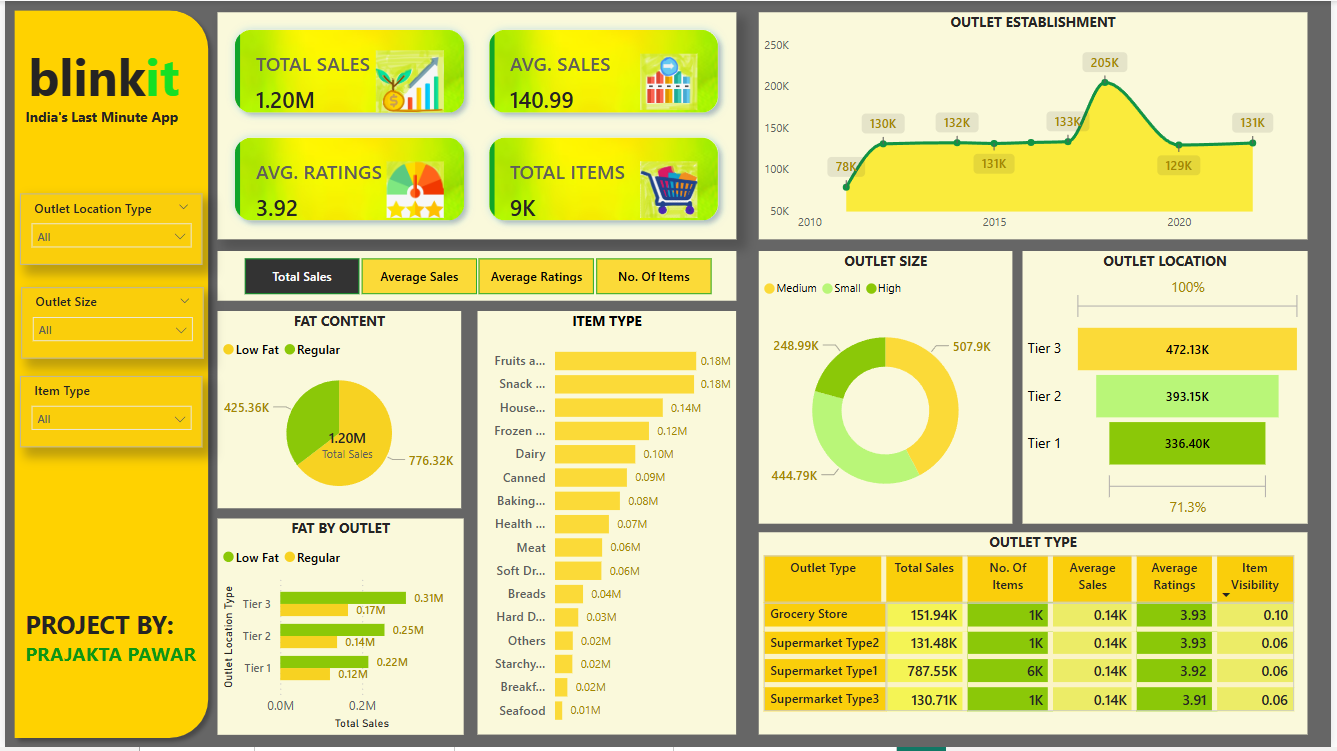

The dashboard page shown, as its layout file describes it:
{"tool":"powerbi","page":{"name":"Blinkit Grocery Overview","canvas":[1280,720],"ordinal":2},"visuals":[{"type":"shape","box":[0,0,205.1,720.2],"z":0},{"type":"textbox","box":[263,530.8,53.1,8.4],"z":1000},{"type":"textbox","box":[0,35,190.6,84.5],"z":2000},{"type":"textbox","box":[14.5,97.7,177.3,43.4],"z":3000},{"type":"cardVisual","fields":{"Data":["Cleaned Grocery Data.Total Sales","Cleaned Grocery Data.Average Sales","Cleaned Grocery Data.Average Ratings","Cleaned Grocery Data.No. Of Items"]},"box":[205.1,10.9,500.7,219.6],"z":4000},{"type":"pieChart","title":"FAT CONTENT","fields":{"Y":["Cleaned Grocery Data.Total Sales"],"Category":["Cleaned Grocery Data.Item Fat Content"]},"box":[205.1,299.2,235.3,190.6],"z":6000},{"type":"slicer","fields":{"Values":["Matrics.Matrics"]},"box":[205.1,241.3,500.7,48.3],"z":7000},{"type":"cardVisual","fields":{"Data":["Cleaned Grocery Data.Total Sales"]},"box":[285.9,395.7,89.3,60.3],"z":8000},{"type":"clusteredBarChart","title":"FAT BY OUTLET","fields":{"Y":["Cleaned Grocery Data.Total Sales"],"Category":["Cleaned Grocery Data.Outlet Location Type"],"Series":["Cleaned Grocery Data.Item Fat Content"]},"box":[205.1,499.5,237.7,208.7],"z":9000},{"type":"barChart","title":"ITEM TYPE","fields":{"Y":["Cleaned Grocery Data.Total Sales"],"Category":["Cleaned Grocery Data.Item Type"]},"box":[456,299.2,249.7,409],"z":12000},{"type":"lineChart","title":"OUTLET ESTABLISHMENT","fields":{"Category":["Cleaned Grocery Data.Outlet Establishment Year"],"Y":["Cleaned Grocery Data.Total Sales"]},"box":[727.5,10.9,529.6,219.6],"z":14000},{"type":"donutChart","title":"OUTLET SIZE","fields":{"Y":["Cleaned Grocery Data.Total Sales"],"Category":["Cleaned Grocery Data.Outlet Size"]},"box":[727.5,241.3,244.9,263],"z":15000},{"type":"funnel","title":"OUTLET LOCATION","fields":{"Y":["Sum(Cleaned Grocery Data.Sales)"],"Category":["Cleaned Grocery Data.Outlet Location Type"]},"box":[982,241.3,275.1,263],"z":18000},{"type":"pivotTable","title":"OUTLET TYPE","fields":{"Rows":["Cleaned Grocery Data.Outlet Type"],"Values":["Cleaned Grocery Data.Total Sales","Cleaned Grocery Data.No. Of Items","Cleaned Grocery Data.Average Sales","Cleaned Grocery Data.Average Ratings","Avg(Cleaned Grocery Data.Item Visibility)"]},"box":[727.5,512.7,529.6,195.4],"z":19000},{"type":"slicer","fields":{"Values":["Cleaned Grocery Data.Outlet Location Type"]},"box":[14.5,185.8,176.1,68.8],"z":21000},{"type":"slicer","fields":{"Values":["Cleaned Grocery Data.Outlet Size"]},"box":[15.7,276.3,176.1,68.8],"z":22000},{"type":"slicer","fields":{"Values":["Cleaned Grocery Data.Item Type"]},"box":[14.5,361.9,176.1,68.8],"z":23000},{"type":"textbox","box":[14.5,580.3,181,85.7],"z":24000}]}

Visuals, with their boxes in screenshot pixels (x1, y1, x2, y2), scaled from the page's 1280x720 canvas onto the 1337x751 screenshot:
shape: 0:0:214:750
textbox: 275:554:330:562
textbox: 0:37:199:125
textbox: 15:102:200:147
cardVisual - Cleaned Grocery Data.Total Sales x Cleaned Grocery Data.Average Sales: 214:11:737:240
"FAT CONTENT" pieChart: 214:312:460:511
slicer - Matrics.Matrics: 214:252:737:302
cardVisual - Cleaned Grocery Data.Total Sales: 299:413:392:476
"FAT BY OUTLET" clusteredBarChart: 214:521:463:739
"ITEM TYPE" barChart: 476:312:737:739
"OUTLET ESTABLISHMENT" lineChart: 760:11:1313:240
"OUTLET SIZE" donutChart: 760:252:1016:526
"OUTLET LOCATION" funnel: 1026:252:1313:526
"OUTLET TYPE" pivotTable: 760:535:1313:739
slicer - Cleaned Grocery Data.Outlet Location Type: 15:194:199:266
slicer - Cleaned Grocery Data.Outlet Size: 16:288:200:360
slicer - Cleaned Grocery Data.Item Type: 15:377:199:449
textbox: 15:605:204:695
